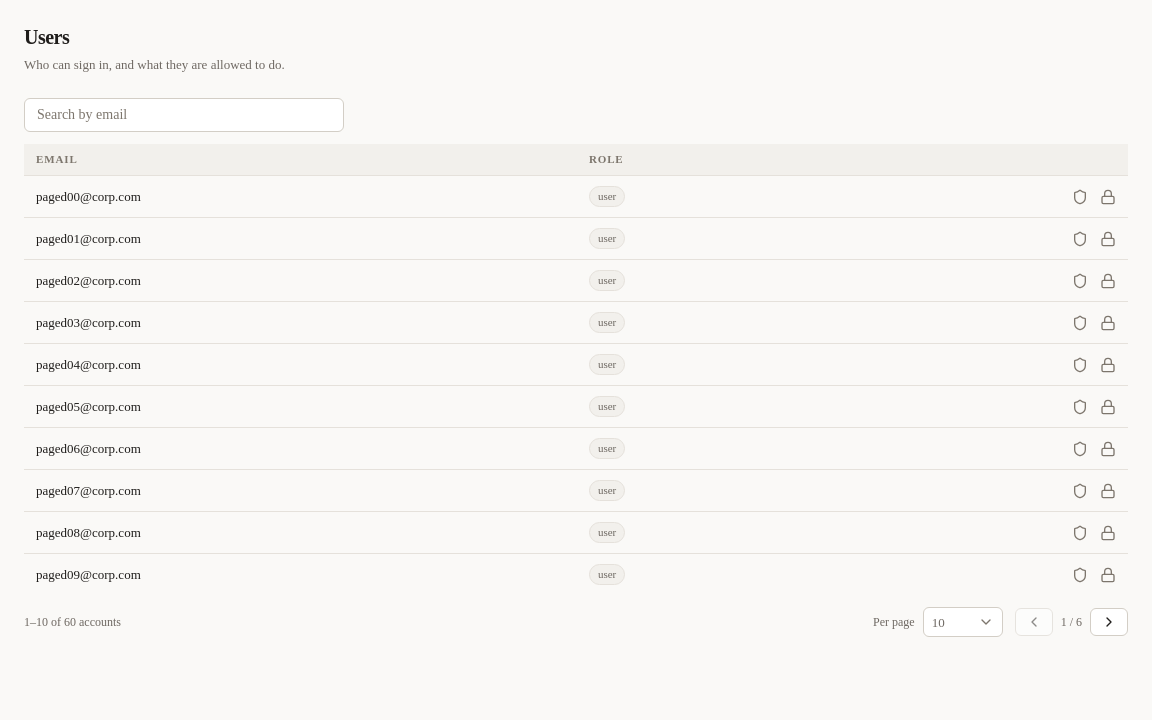
Test: UsersManager › pagination › pages forward and back over the same list
The width and height of the screenshot is (1152, 720).
Click the button named "Next page": (1109, 622) [1090,608,1128,636]
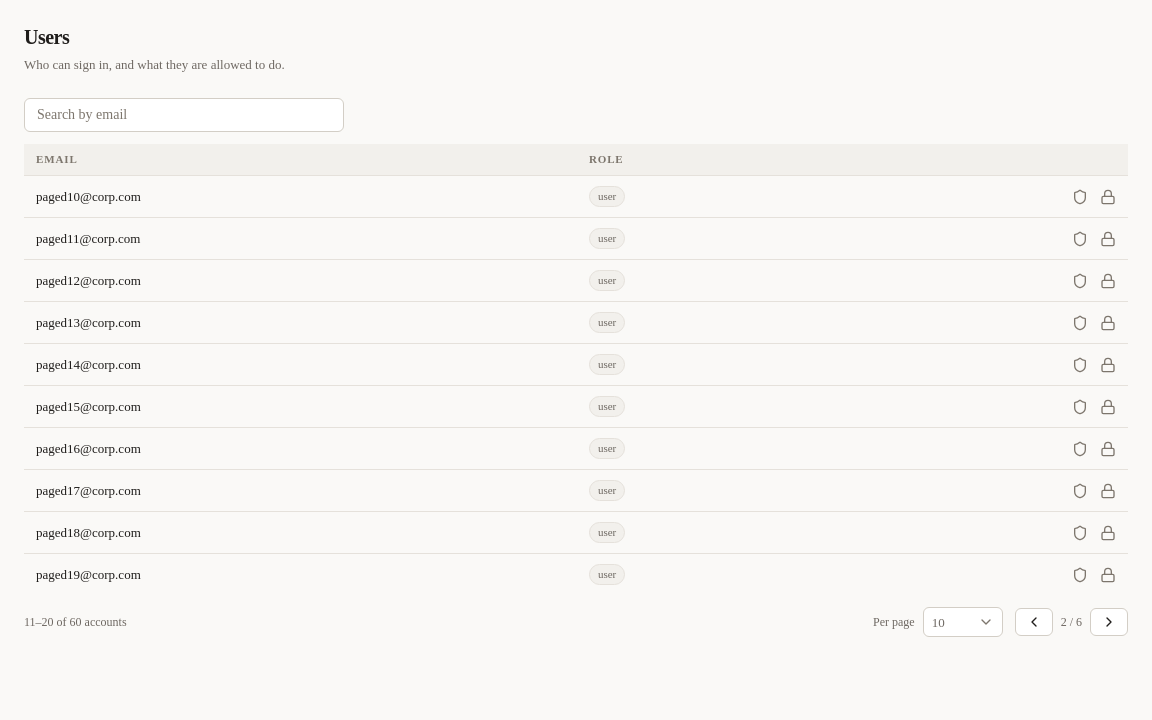
Now the text "paged10@corp.com" is shown, box [36,189,141,204]
Now the text "paged00@corp.com" is gone
Click the button named "Previous page": (1034, 622) [1015,608,1053,636]
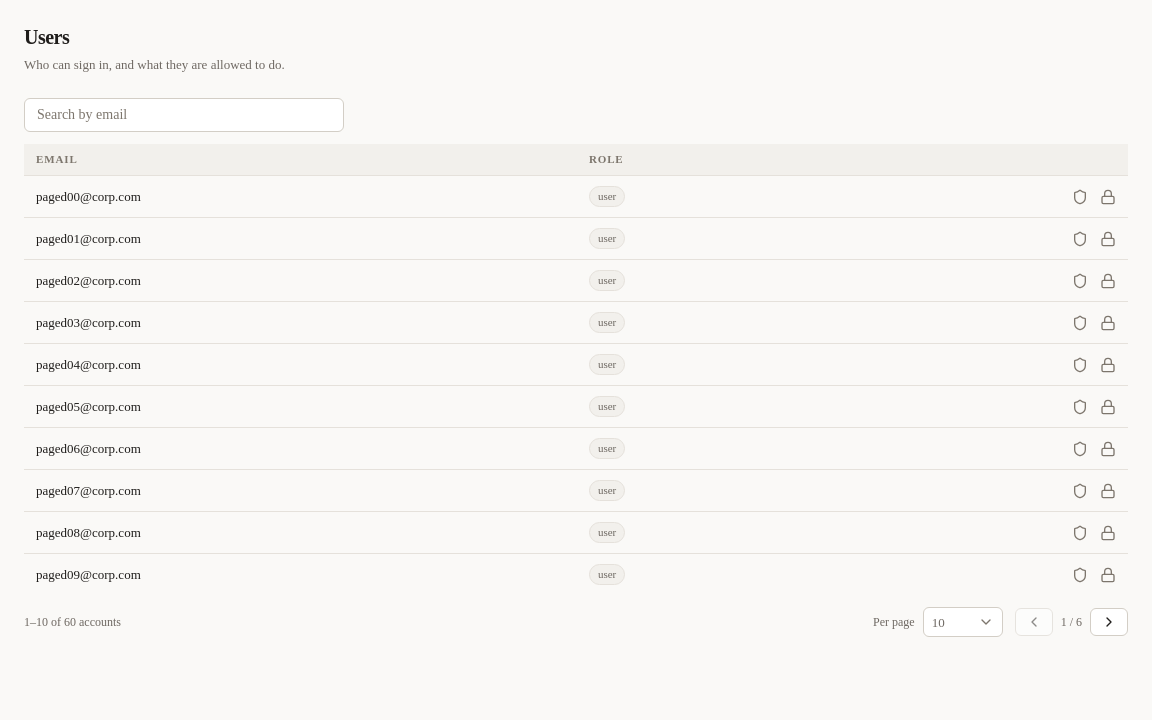
Now the text "paged00@corp.com" is shown, box [36,189,141,204]
